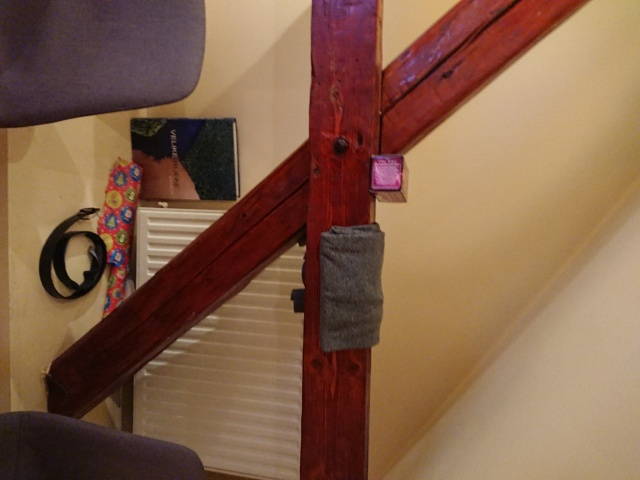Franck Black Currant Tea 60g: (366, 151, 412, 206)
